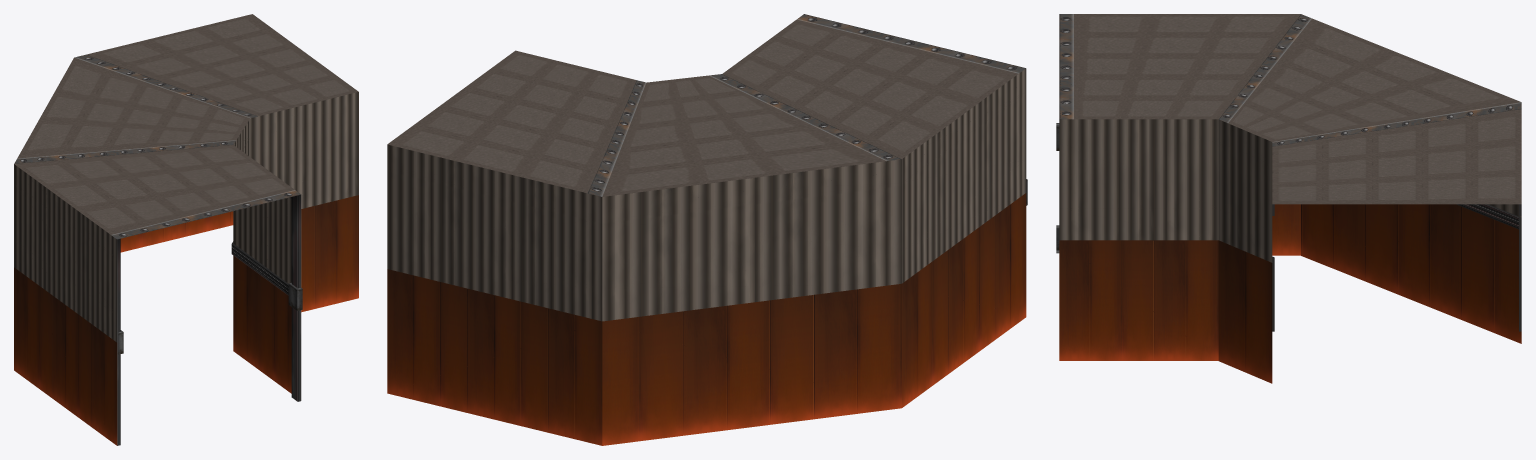
The model's file is molten_hall_right.fbx.
3 renders of one model, left to right at view 1: azimuth 30°, elevation 25°; view 2: azimuth 150°, elevation 25°; view 3: azimuth 270°, elevation 25°, orthographic. The views are drawn at different scales.
Parts seen in each view (by area): view 1: hall_right, hall_right_roof, ReinforcedBars; view 2: hall_right, hall_right_roof; view 3: hall_right, hall_right_roof, ReinforcedBars.
Part boxes in pixels (bbox=[...]): hall_right: bbox=[14, 92, 358, 445]; hall_right_roof: bbox=[14, 14, 358, 239]; ReinforcedBars: bbox=[117, 195, 302, 445]; hall_right: bbox=[387, 68, 1026, 445]; hall_right_roof: bbox=[387, 14, 1025, 196]; hall_right: bbox=[1059, 119, 1521, 383]; hall_right_roof: bbox=[1059, 14, 1521, 204]; ReinforcedBars: bbox=[1056, 123, 1521, 331].
Bounding box in the file's own units: 3274 × 1942 × 3384.
